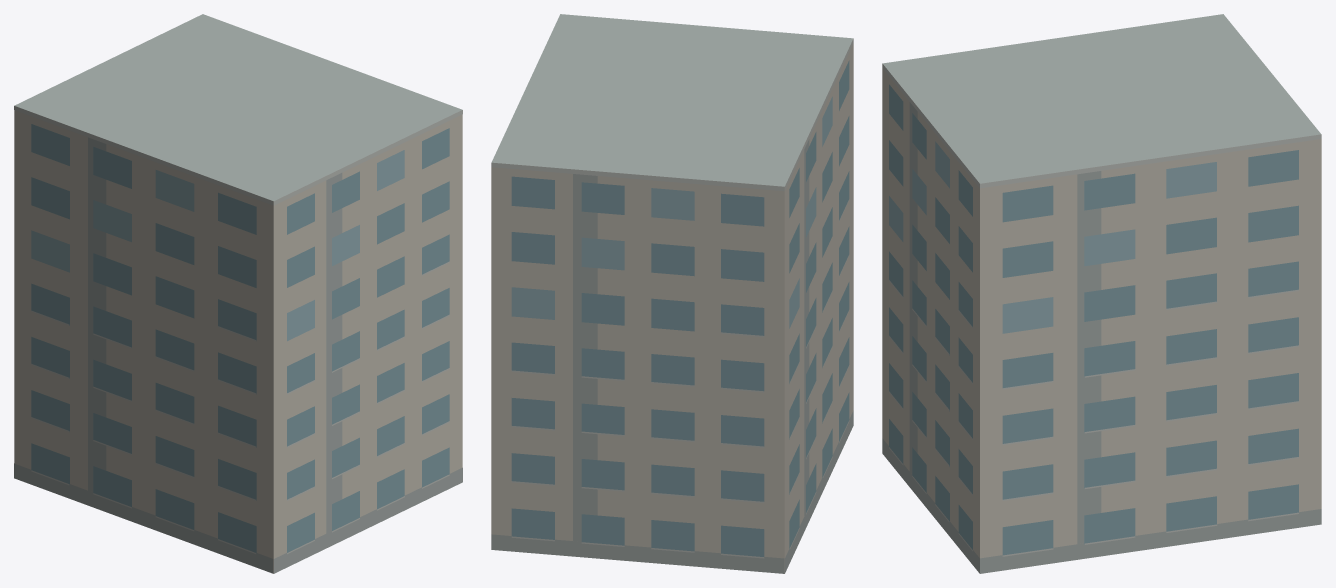
File: survey-upis-32786949.glb
3 views of the same model, side by side, from view 1: azimuth 30°, elevation 25°; view 2: azimuth 150°, elevation 25°; view 3: azimuth 270°, elevation 25° (orthographic). The views are drawn at different scales.
Parts seen in each view (by area): view 1: survey-upis-32786949.tmp; view 2: survey-upis-32786949.tmp; view 3: survey-upis-32786949.tmp.
Boxes of the visible parts, x1,y1,x2,y2 form: survey-upis-32786949.tmp: [14, 14, 462, 573]; survey-upis-32786949.tmp: [491, 14, 853, 573]; survey-upis-32786949.tmp: [882, 14, 1321, 573].
Size of the model in its own units: 19.14 by 20.5 by 20.92.
